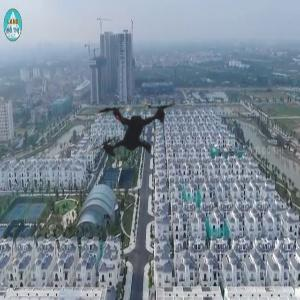drone: (63, 58, 204, 199)
